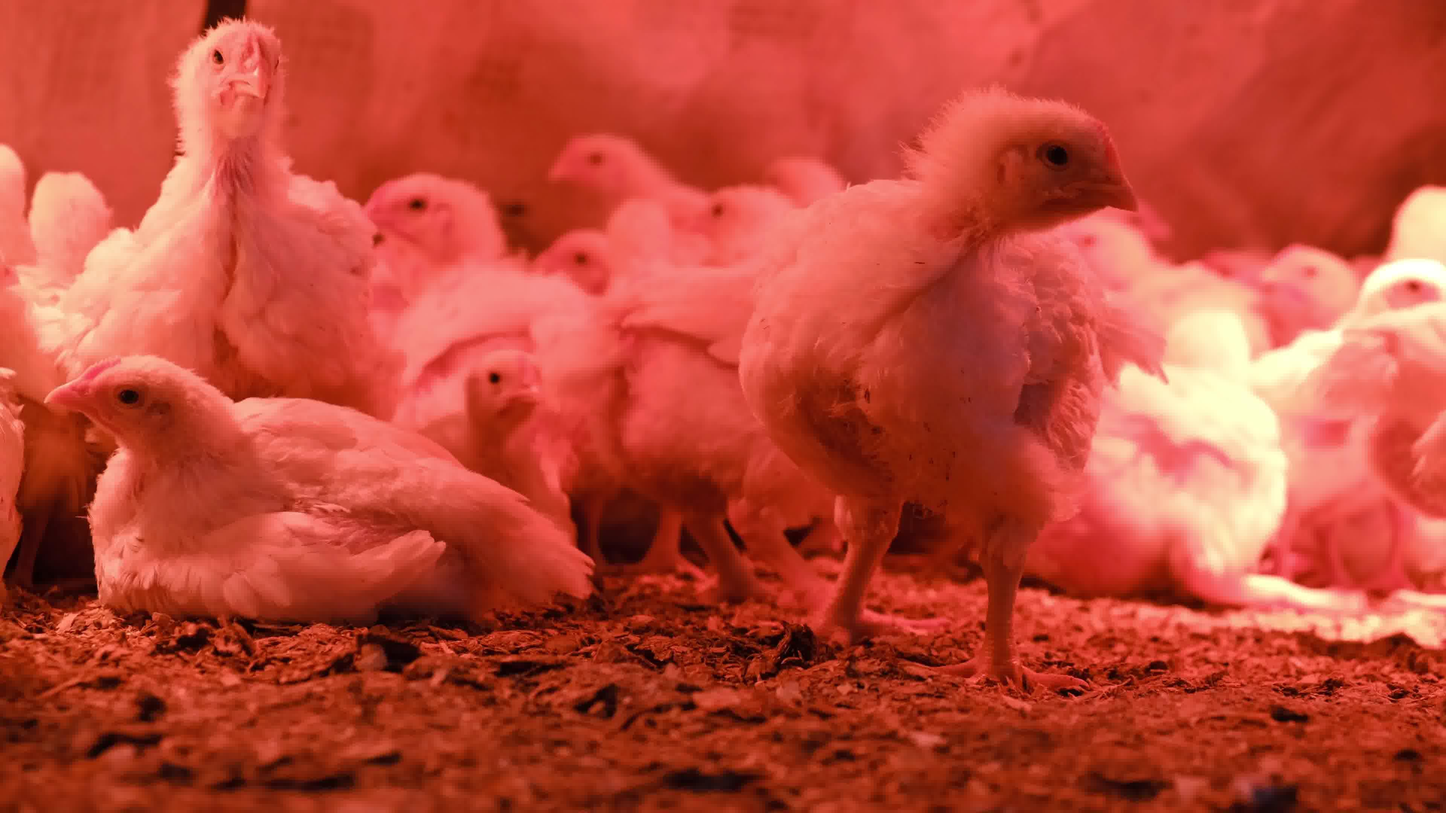AbNormal: (56, 367, 593, 615), (1096, 358, 1326, 615)
Normal: (772, 94, 1126, 693), (107, 9, 360, 350), (606, 179, 808, 597), (1305, 247, 1446, 568), (0, 117, 117, 309), (414, 352, 595, 472), (358, 143, 497, 273), (1228, 218, 1344, 312), (531, 130, 682, 201), (538, 230, 642, 311)
